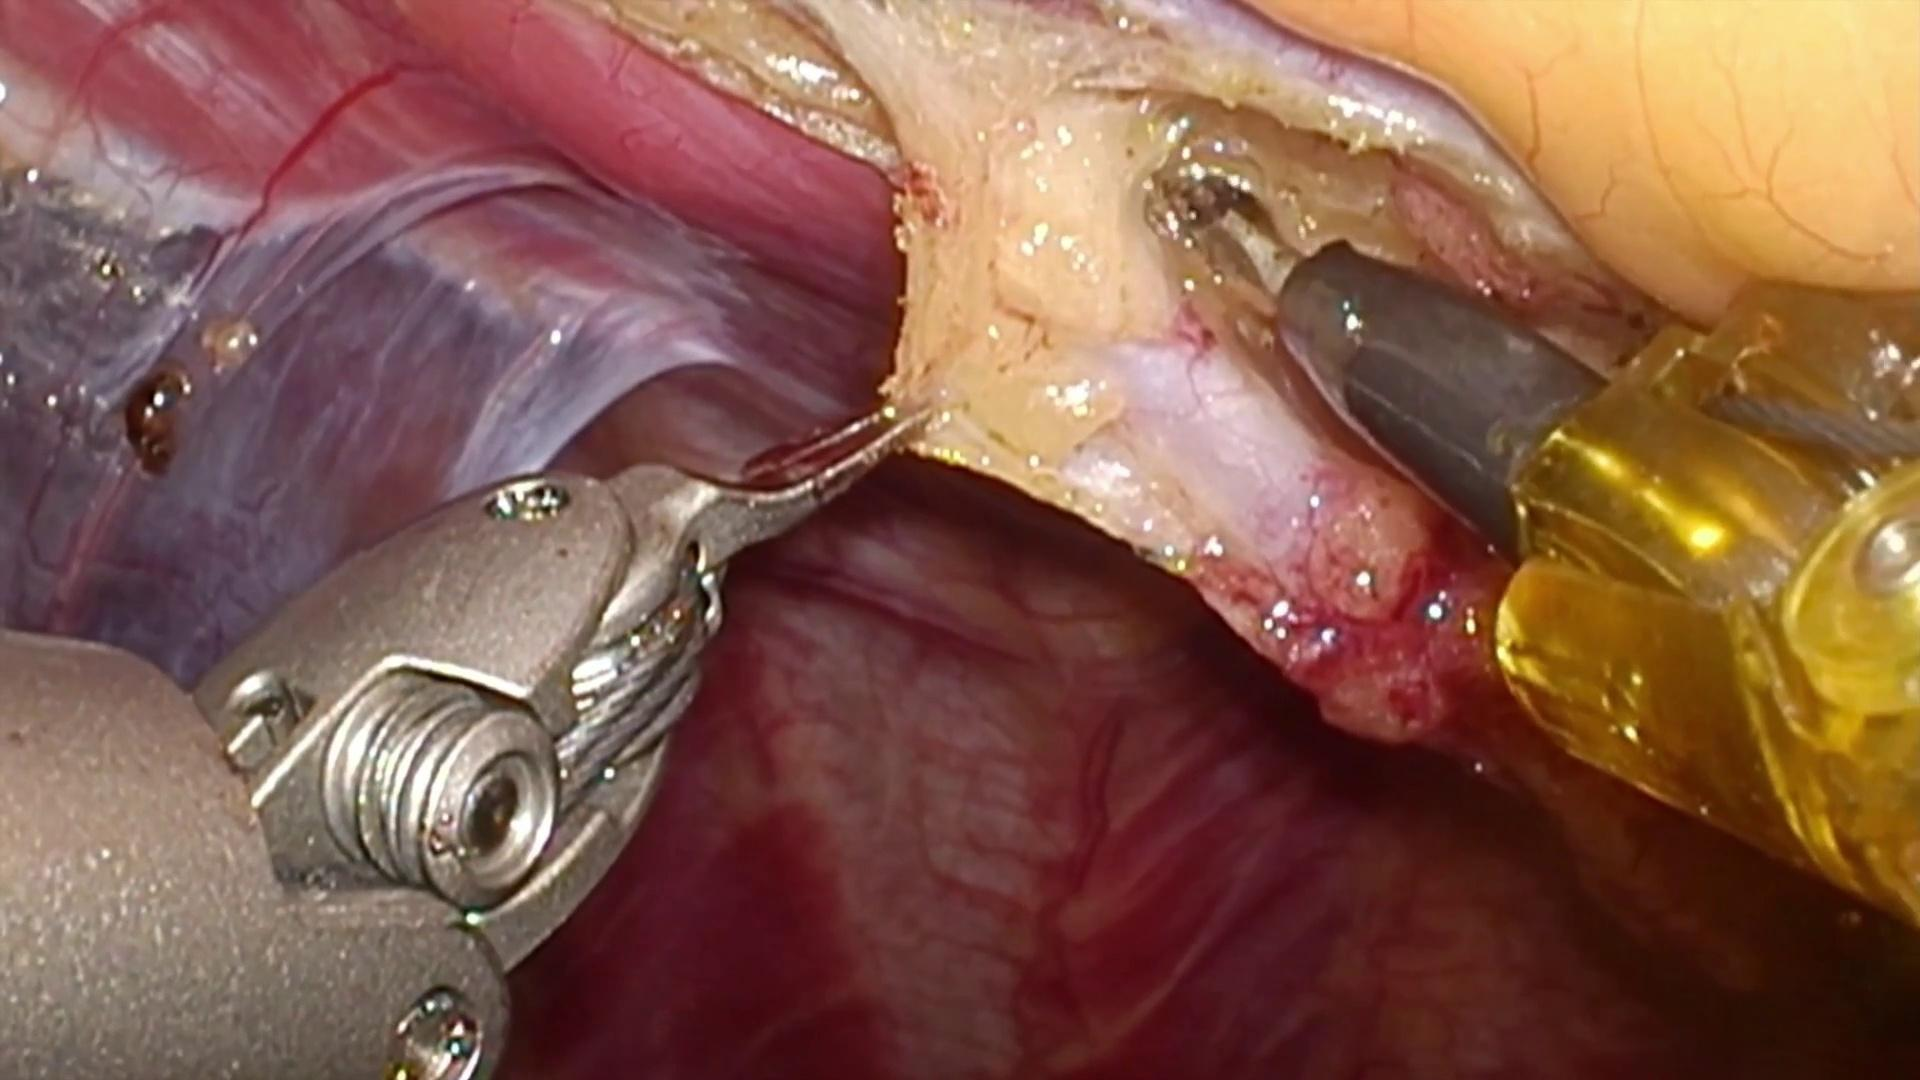Cautery_Spatula: (1178, 185, 1607, 570)
Debakey: (607, 378, 949, 559)
